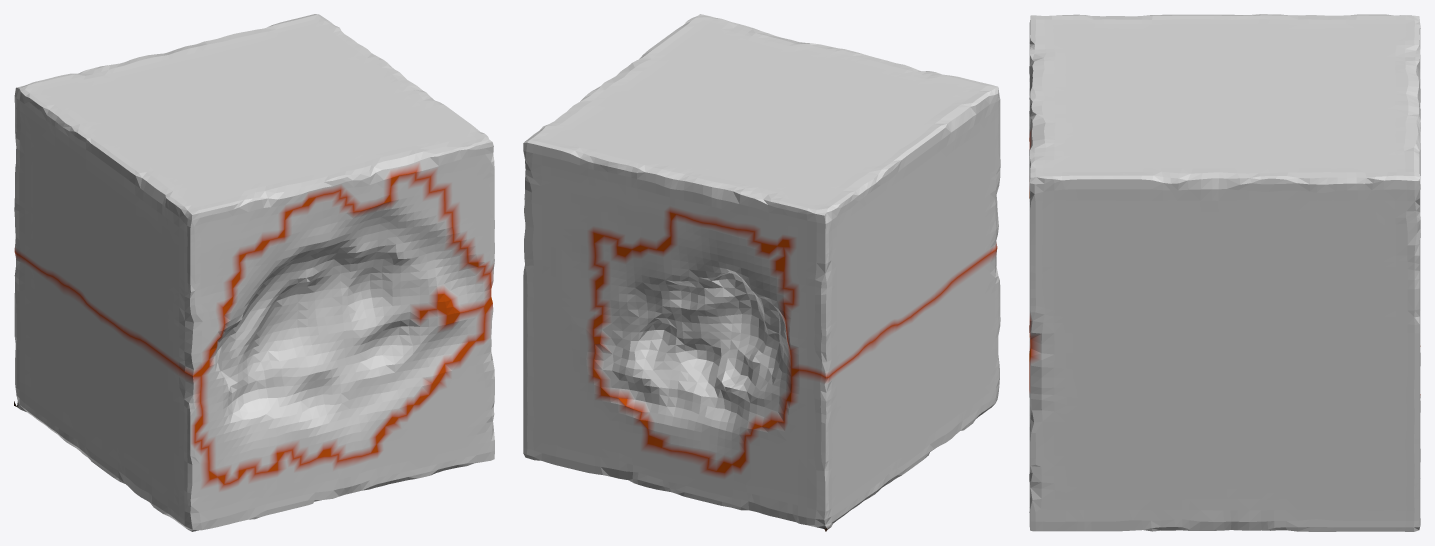
Rendered from c_block_nbars.fbx.
3 renders of one model, left to right at view 1: azimuth 30°, elevation 25°; view 2: azimuth 150°, elevation 25°; view 3: azimuth 270°, elevation 25°, orthographic. The views are drawn at different scales.
Parts seen in each view (by area): view 1: concrete1_SeamsColor; view 2: concrete1_SeamsColor; view 3: concrete1_SeamsColor.
Boxes of the visible parts, <box> form: concrete1_SeamsColor: <box>14,14,494,531</box>; concrete1_SeamsColor: <box>523,14,1000,531</box>; concrete1_SeamsColor: <box>1029,14,1420,531</box>.
Bounding box in the file's own units: 2.01 × 2.01 × 2.01.
